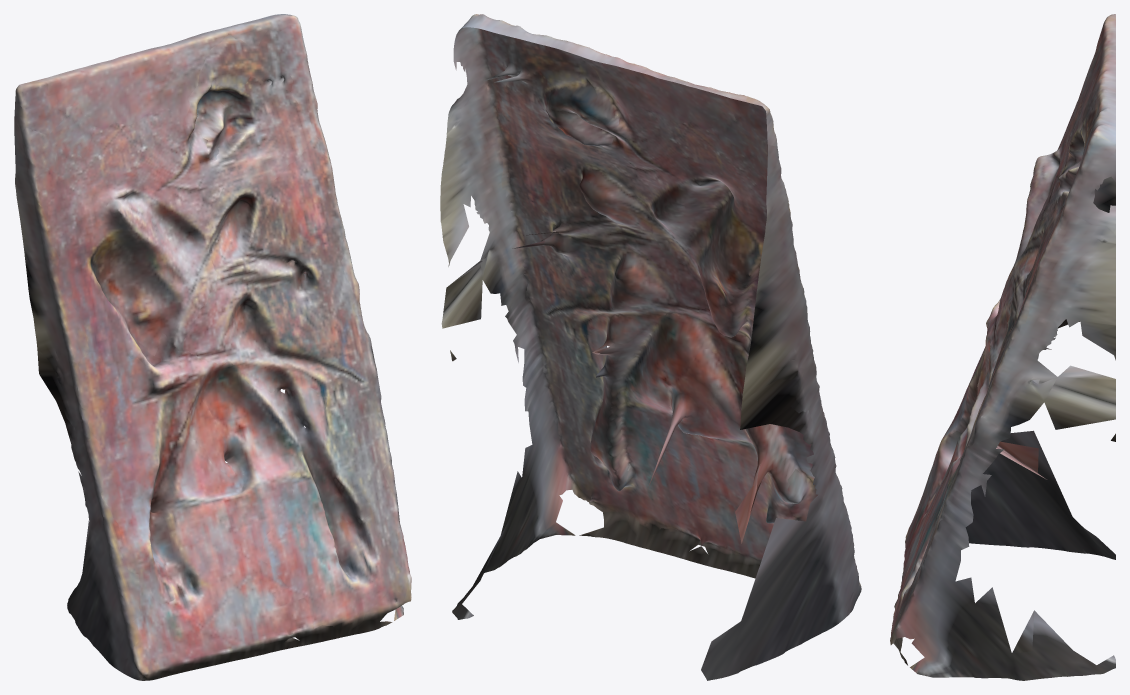
3 views of the same model, side by side, from view 1: azimuth 30°, elevation 25°; view 2: azimuth 150°, elevation 25°; view 3: azimuth 270°, elevation 25° (orthographic). The views are drawn at different scales.
Visible parts, largest first — view 1: mesh; view 2: mesh; view 3: mesh.
Part boxes in pixels (x1,y1,x2,y2): mesh: [14, 14, 411, 680]; mesh: [440, 14, 861, 680]; mesh: [890, 14, 1115, 680].
Size of the model in its own units: 0.307 by 0.52 by 0.1988.
Materials: 1 (1 with a texture image).
